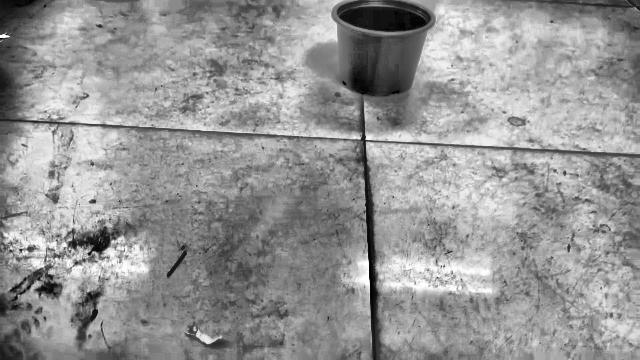pot: (332, 0, 435, 95)
